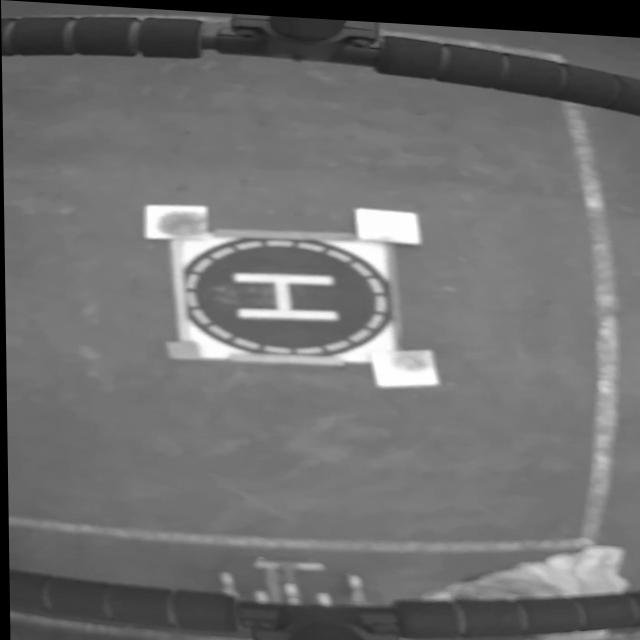Helipad: (233, 270, 337, 318)
